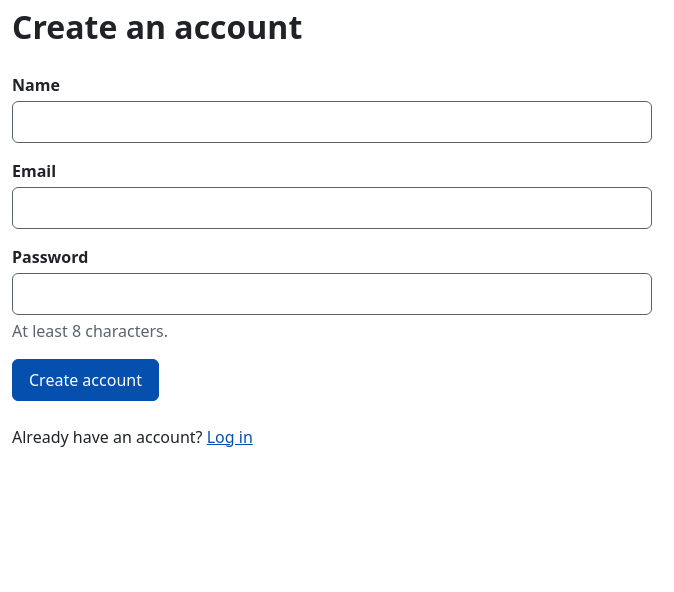
Test: RegisterPage › shows the API's validation details next to the right field
In the field labelled "Name": (332, 122) [12,101,652,143], type "Sam Student"
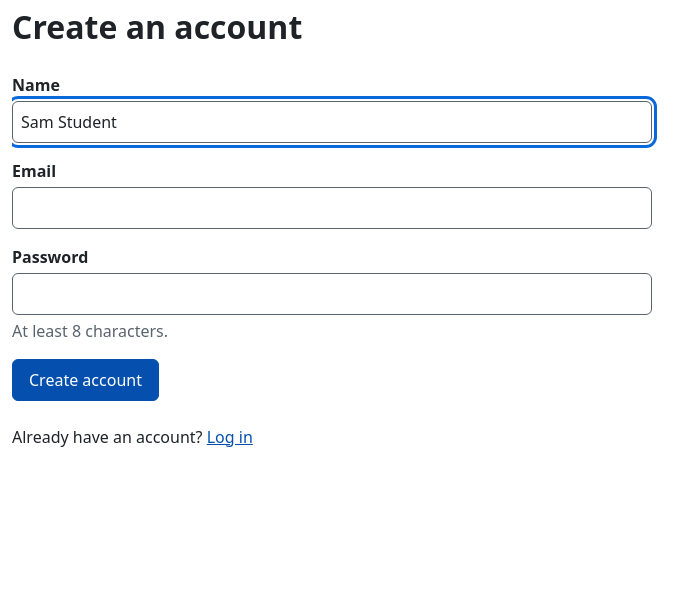
In the field labelled "Email": (332, 208) [12,187,652,229], type "sam@example.com"
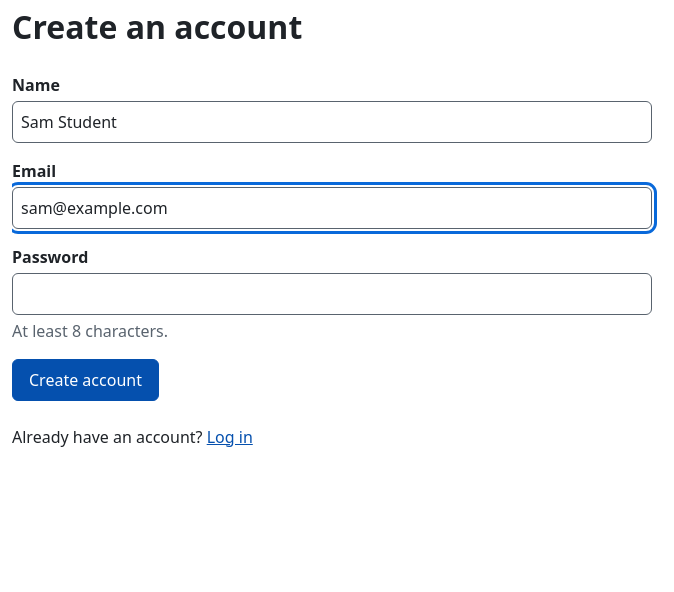
In the password field labelled "Password": (332, 294) [12,273,652,315], type "password123"
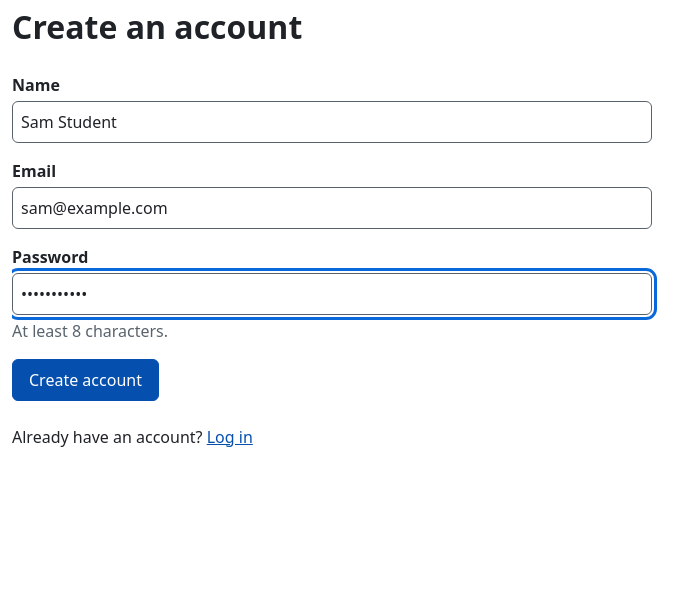
Click the button "Create account": click(85, 380) [12,359,159,401]
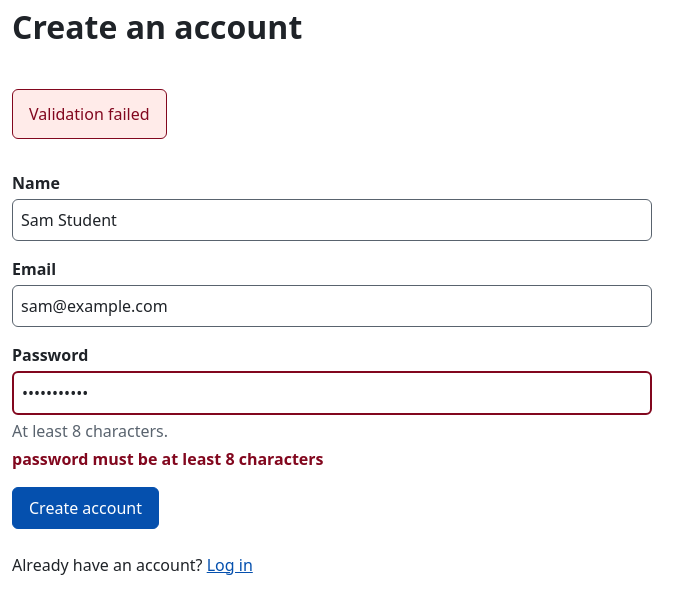
Expected: the text "password must be at least 8 characters" is shown, [12,448,324,470]
